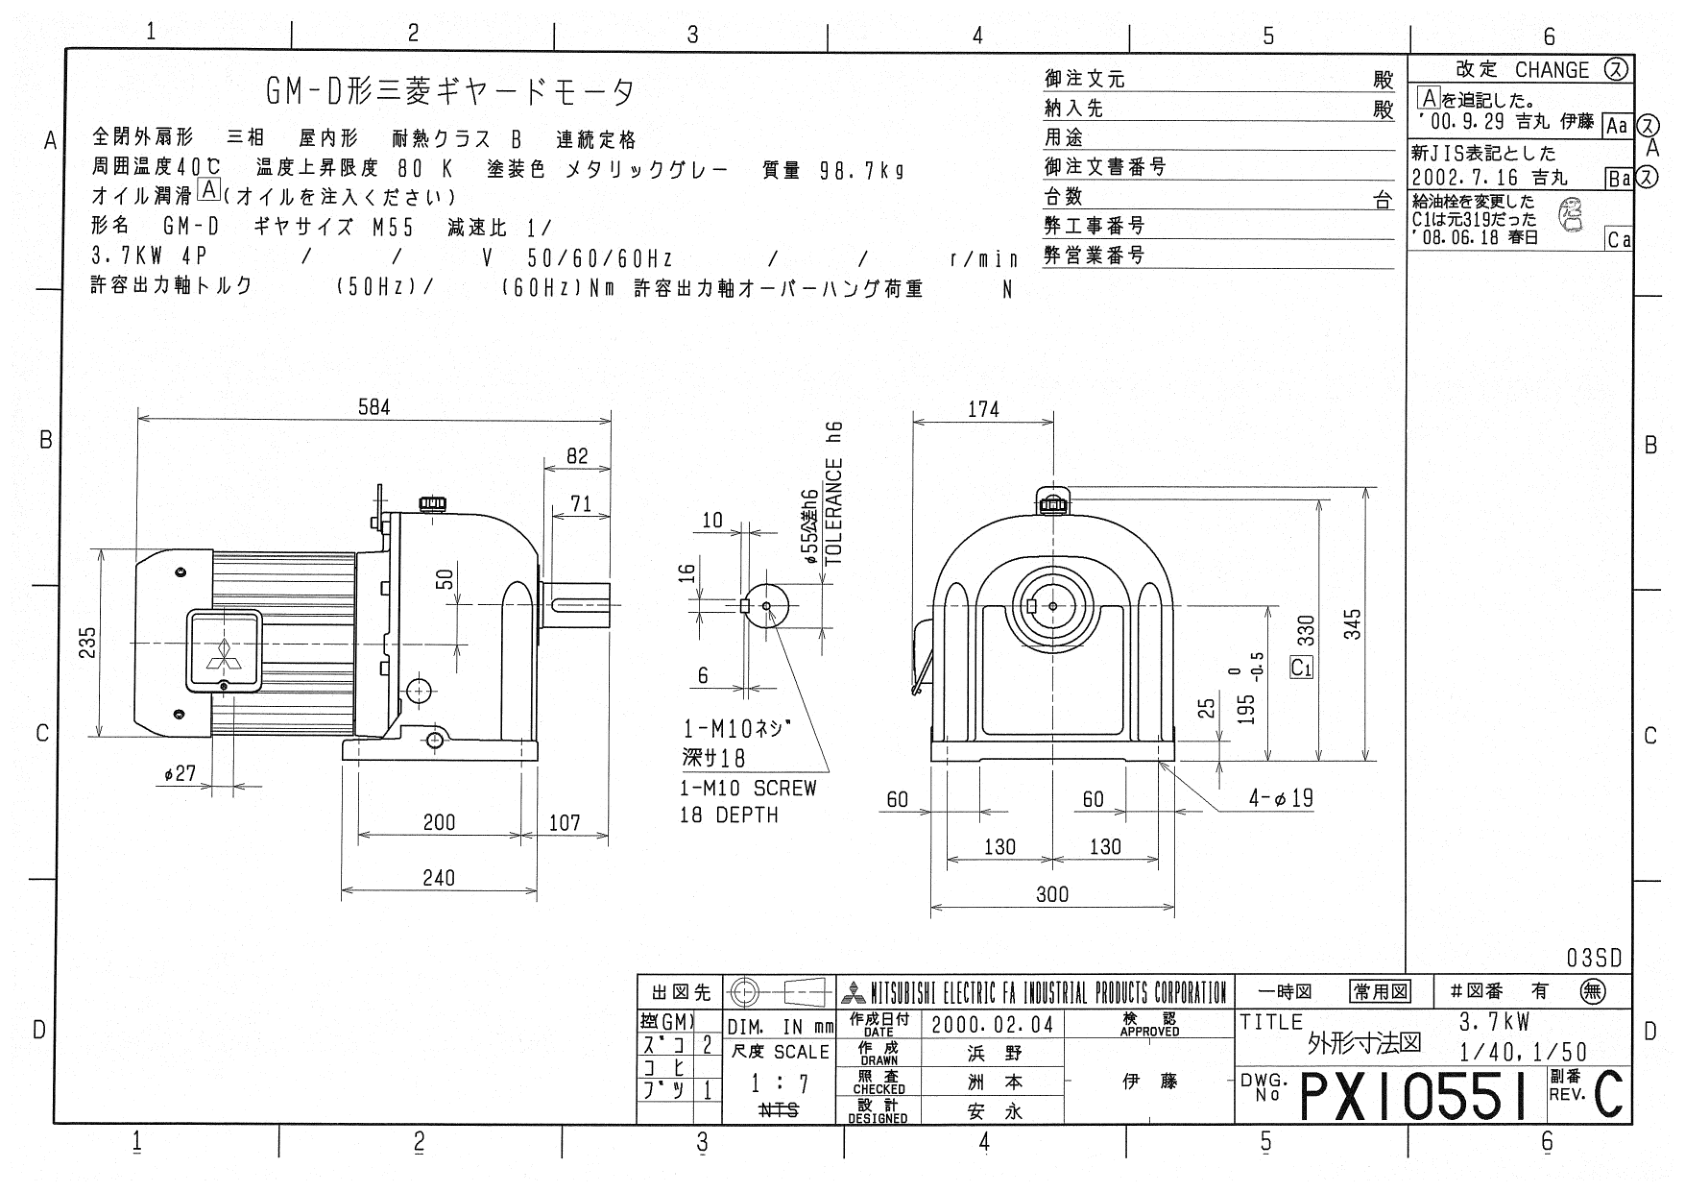GM_D_屋内＿三相_脚: (68, 321, 1393, 937)
